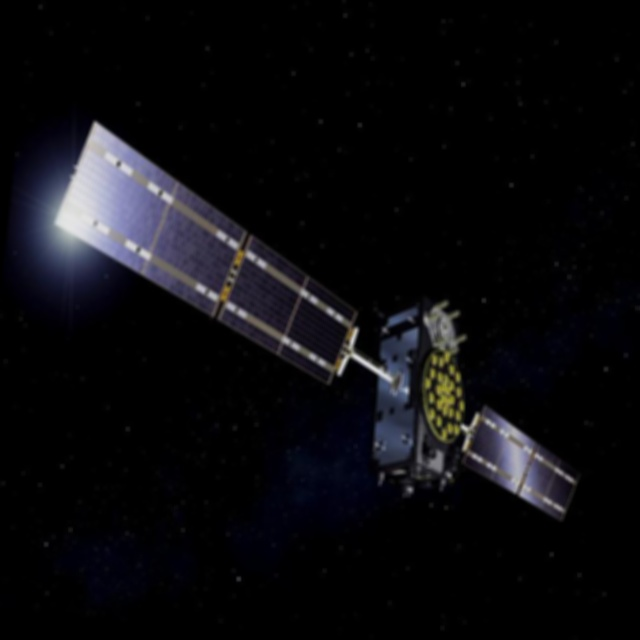satellite: (20, 102, 616, 541)
